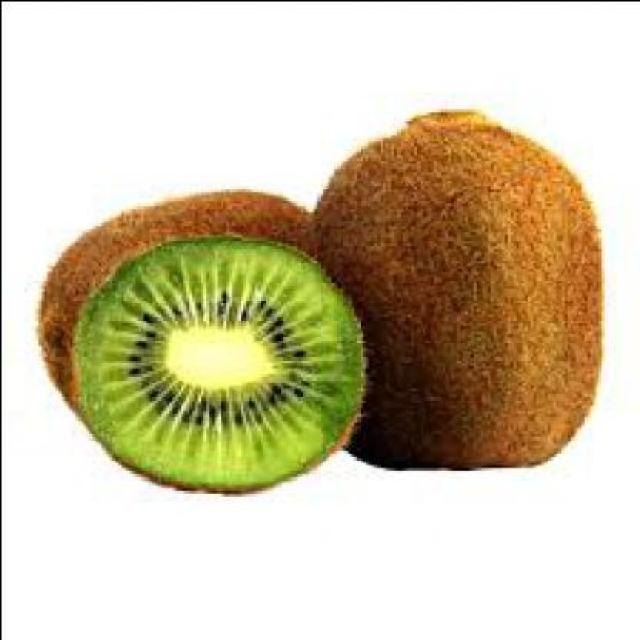BIODEGRADABLE: (318, 105, 600, 467), (62, 228, 364, 489), (40, 185, 322, 422)
